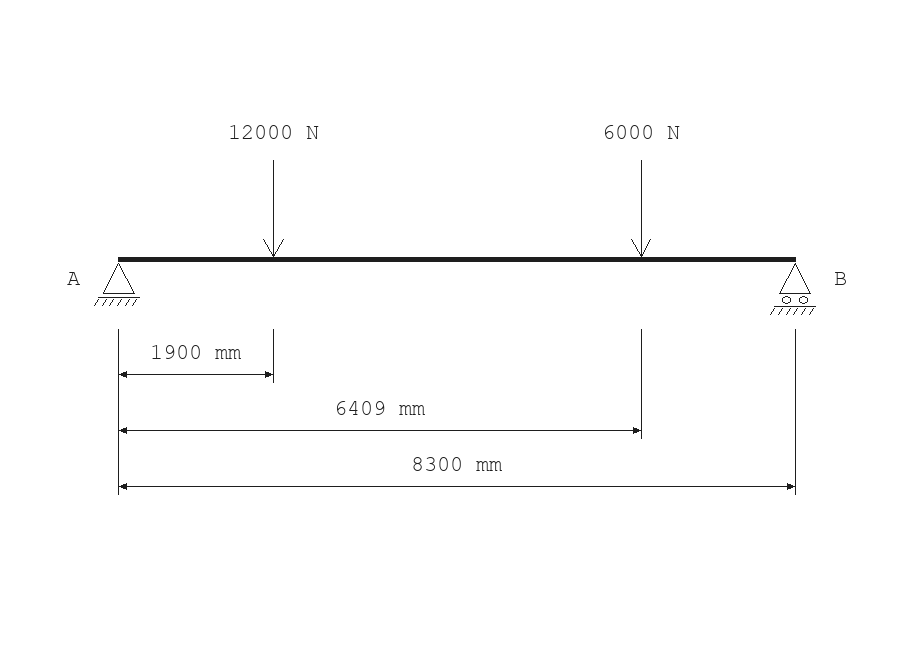pin_support: (94, 263, 140, 306)
point_load: (263, 160, 284, 257), (631, 160, 651, 257)
roller_support: (770, 263, 816, 315)
